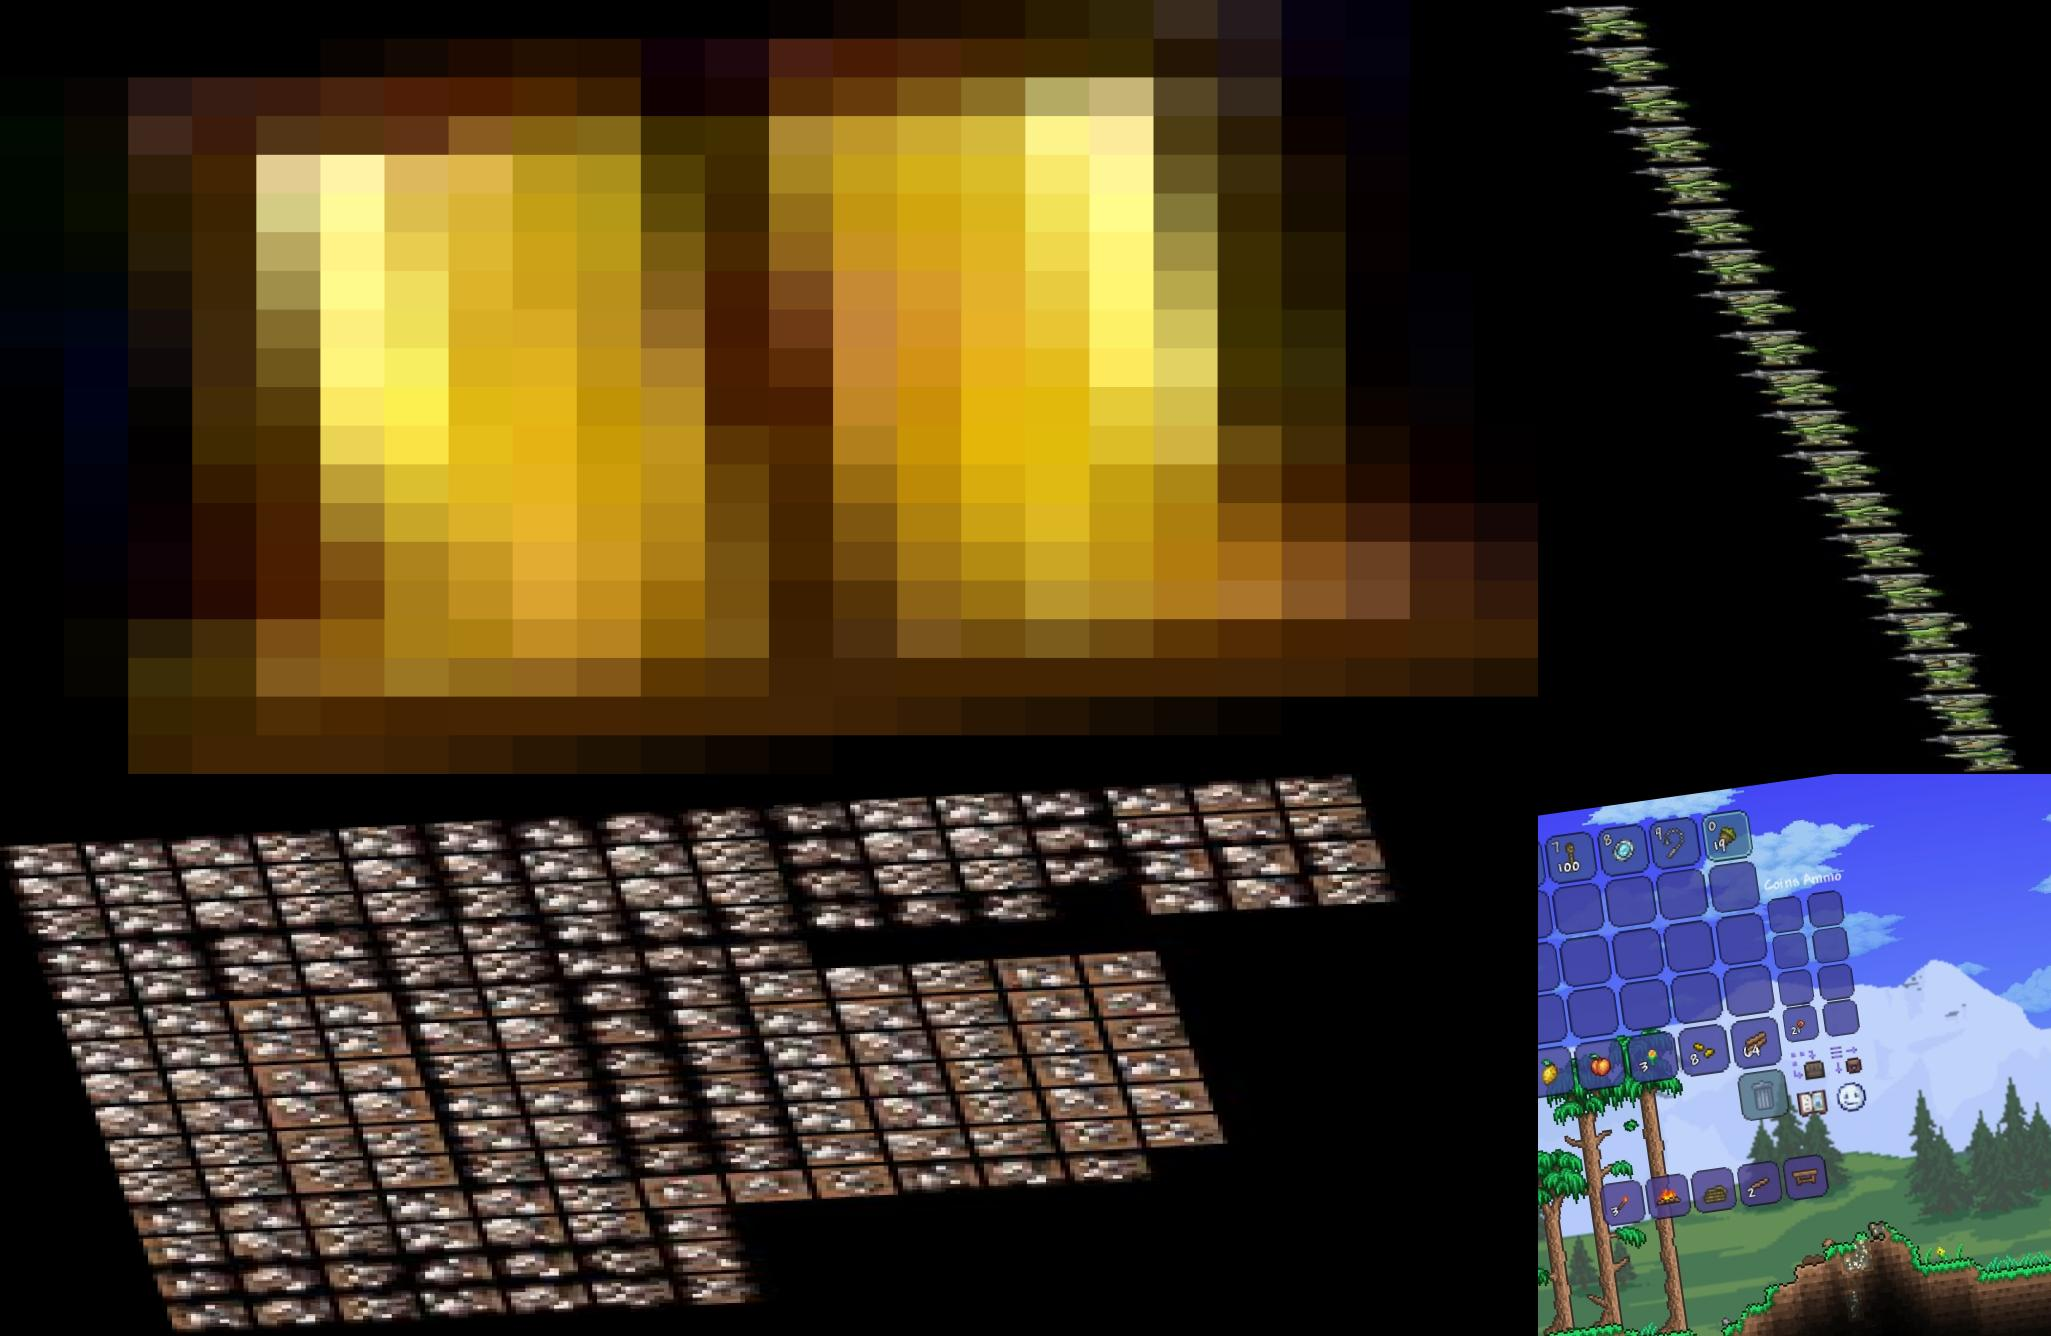iron: (0, 841, 91, 877)
legs: (0, 0, 1538, 774)
zombie: (1538, 3, 1671, 45)
